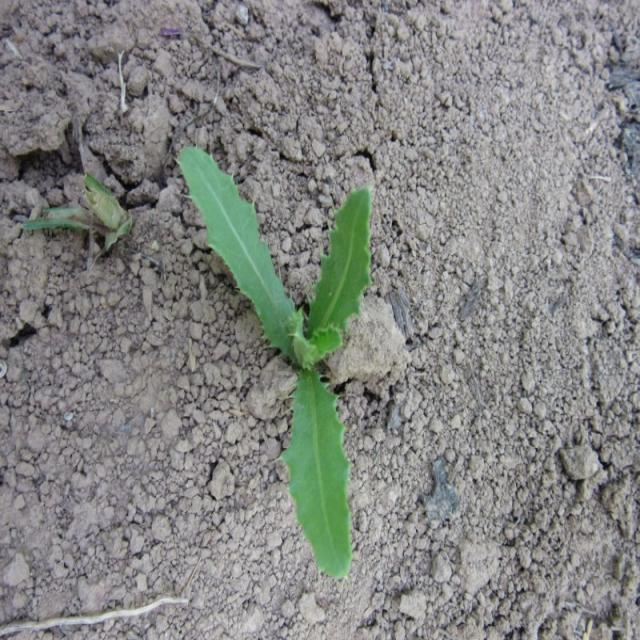cs: (172, 138, 376, 584)
